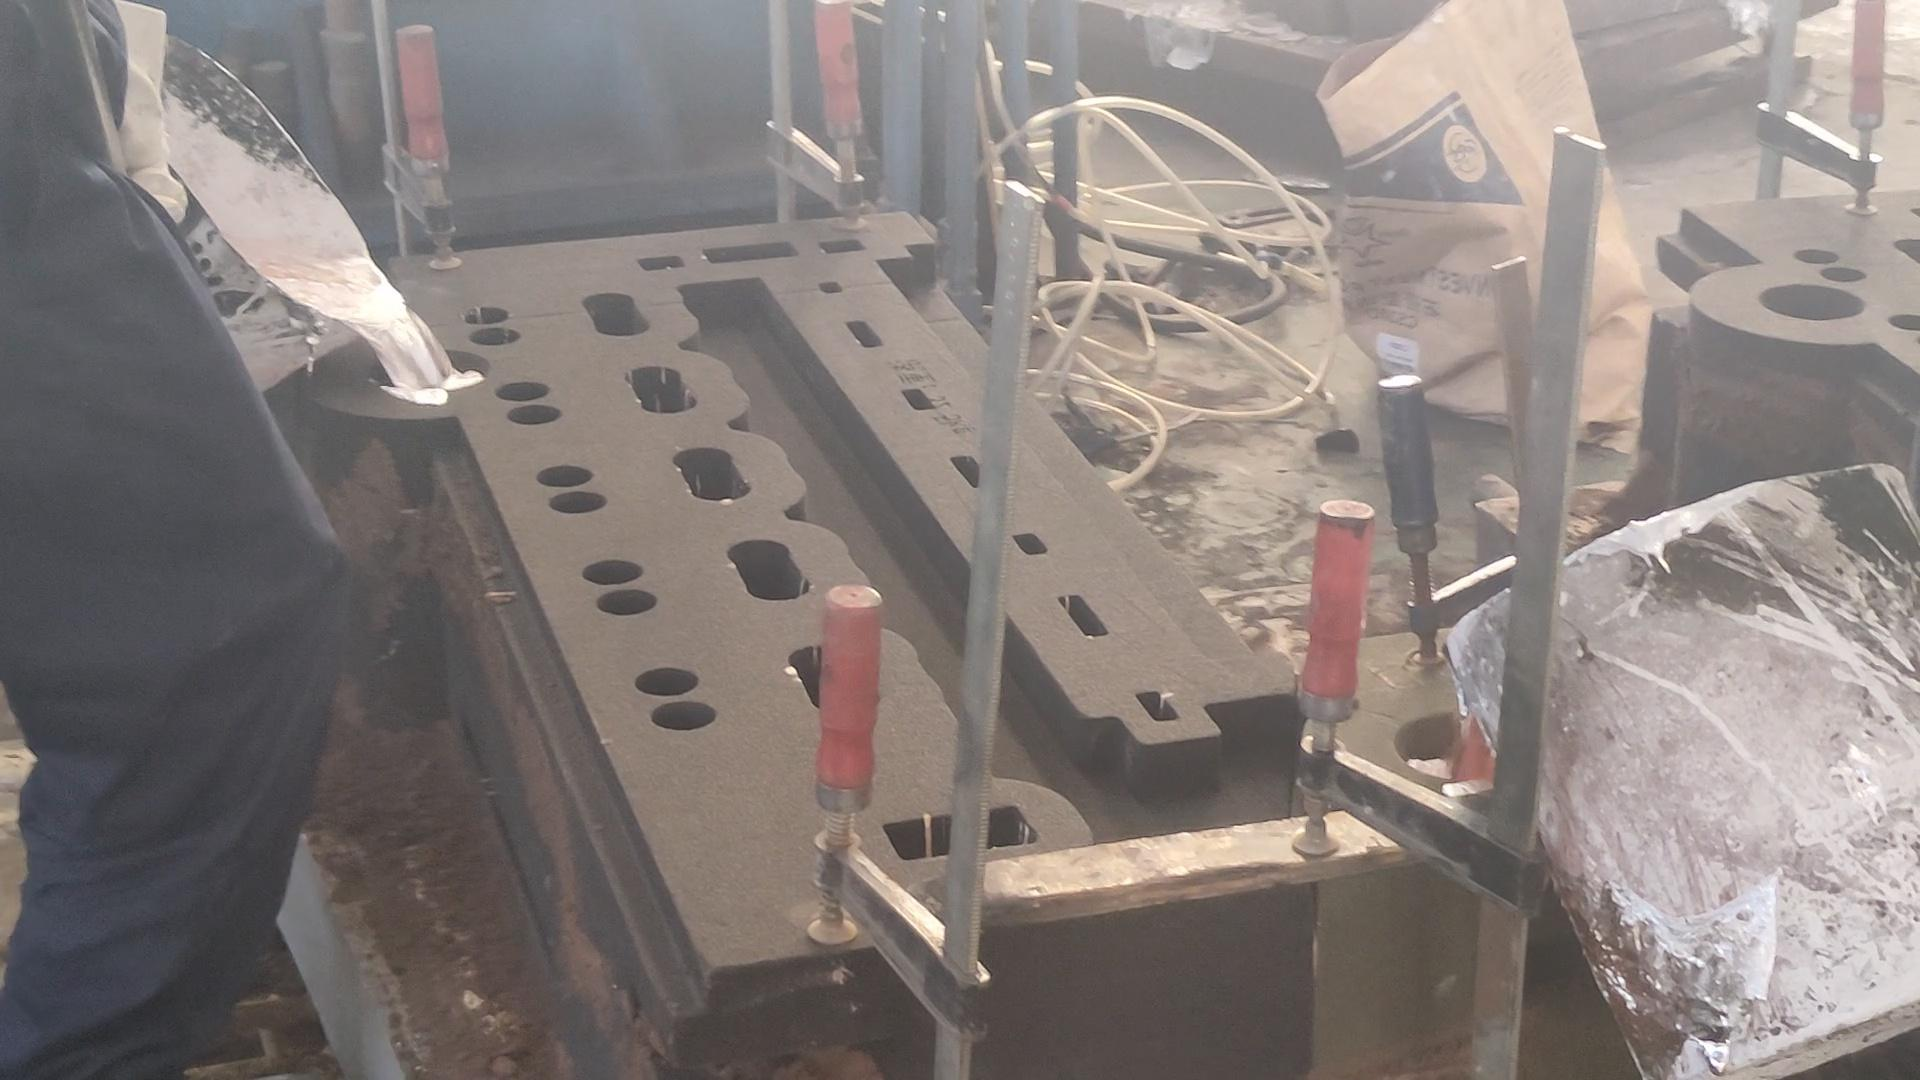pouring hole: (1393, 708, 1535, 781), (365, 349, 491, 393), (1758, 284, 1867, 323)
